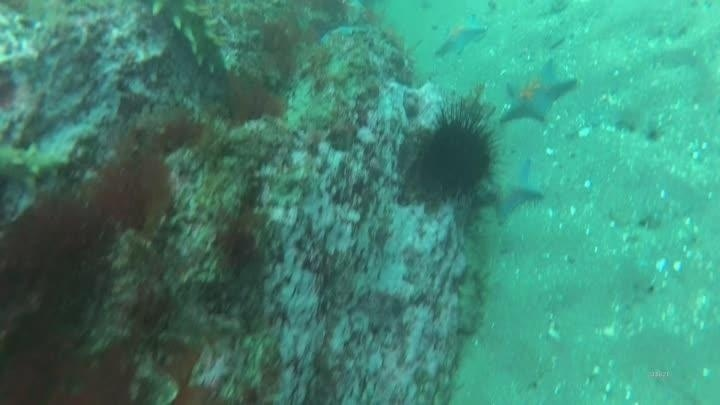echinus: (414, 107, 500, 202)
holothurian: (146, 1, 233, 79), (1, 133, 74, 184), (450, 264, 492, 339)
starfish: (496, 58, 580, 128), (475, 156, 547, 225), (431, 13, 489, 60)
